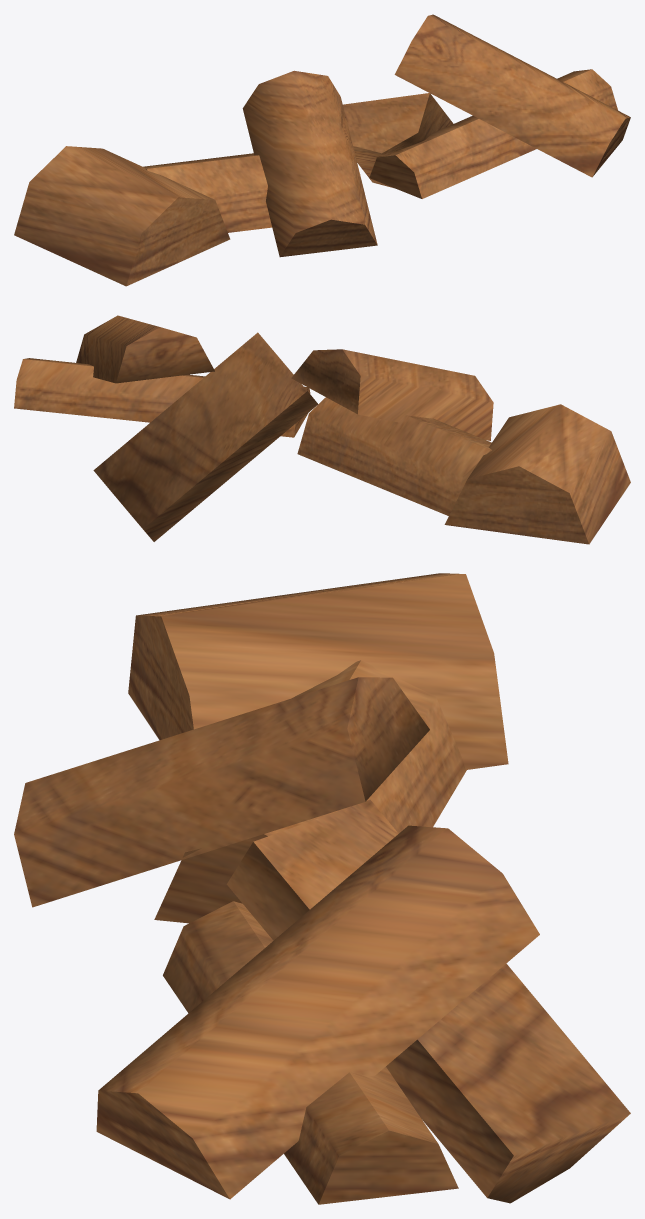
Rendered from WoodChunks_Art.fbx.
3 renders of one model, top to bottom at view 1: azimuth 30°, elevation 25°; view 2: azimuth 150°, elevation 25°; view 3: azimuth 270°, elevation 25°, orthographic. The views are drawn at different scales.
Parts seen in each view (by area): view 1: WoodChunks_Art; view 2: WoodChunks_Art; view 3: WoodChunks_Art.
Boxes of the visible parts, x1,y1,x2,y2 form: WoodChunks_Art: (14,14,630,286); WoodChunks_Art: (14,315,630,544); WoodChunks_Art: (14,573,630,1204).
Size of the model in its own units: 2.76 by 0.8629 by 1.29.
